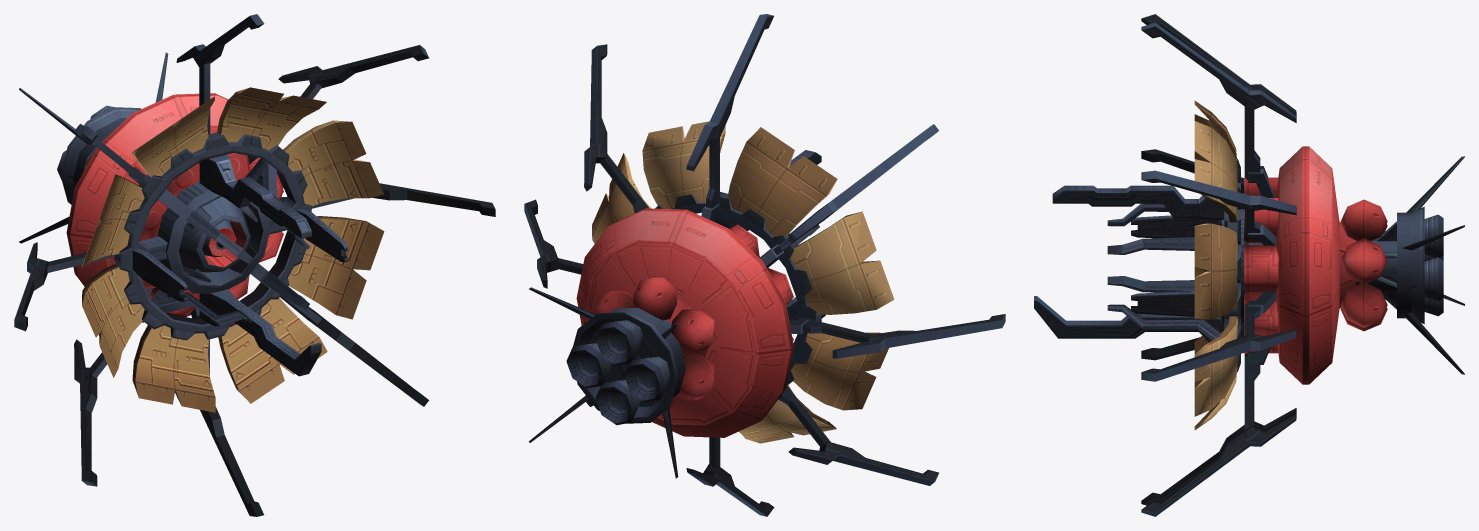
The model's file is Walking.fbx.
3 views of the same model, side by side, from view 1: azimuth 30°, elevation 25°; view 2: azimuth 150°, elevation 25°; view 3: azimuth 270°, elevation 25° (orthographic). The views are drawn at different scales.
Visible parts, largest first — view 1: A110_450_lavieenrose; view 2: A110_450_lavieenrose; view 3: A110_450_lavieenrose.
Boxes of the visible parts, x1,y1,x2,y2 form: A110_450_lavieenrose: (14,14,495,516); A110_450_lavieenrose: (524,14,1005,516); A110_450_lavieenrose: (1034,14,1464,516).
Bounding box in the file's own units: 125 × 125 × 101.
